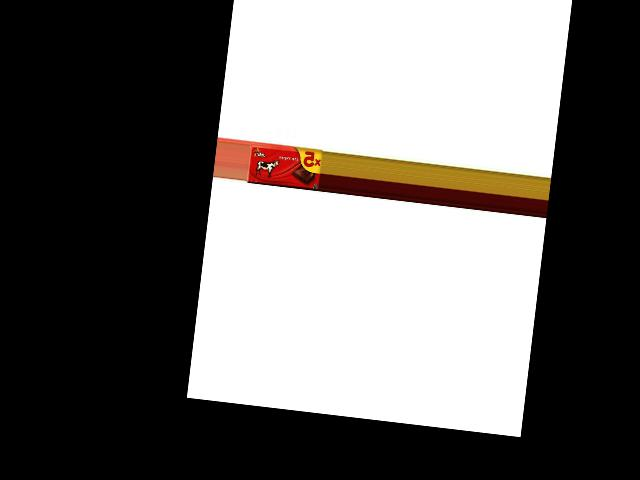chocolate: (245, 139, 323, 190)
